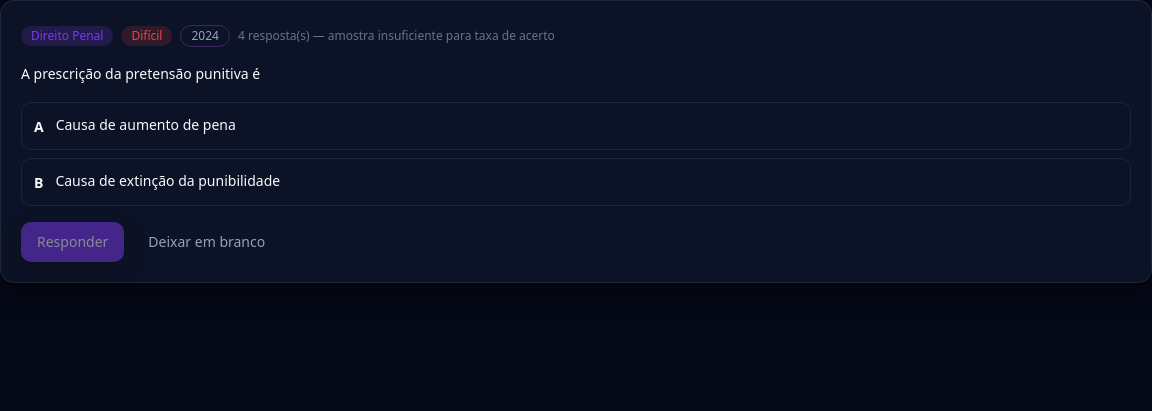
Test: QuestionCard › mostra o comentário da marcada e o da correta após responder
Click the text "Causa de aumento de pena": coordinates (146, 124) 56,115 -> 236,134
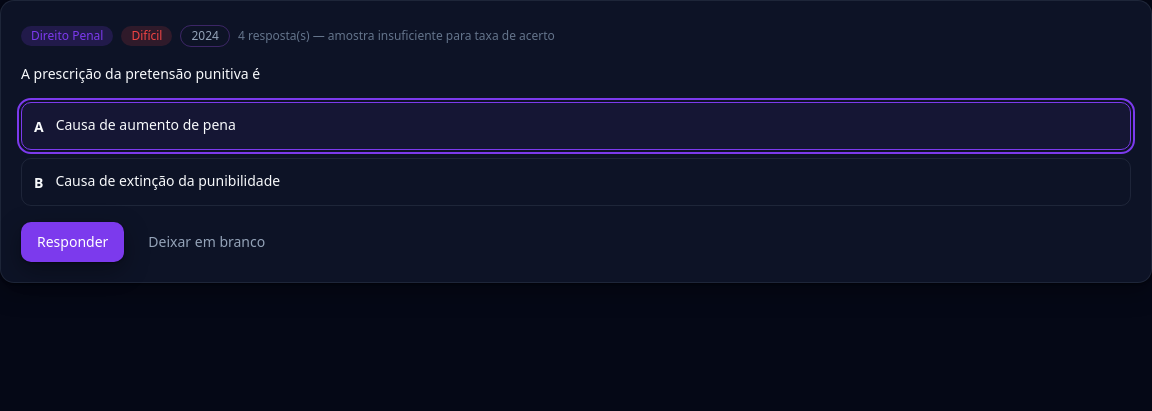
Click the button "Responder": coordinates (73, 242) 21,222 -> 124,262
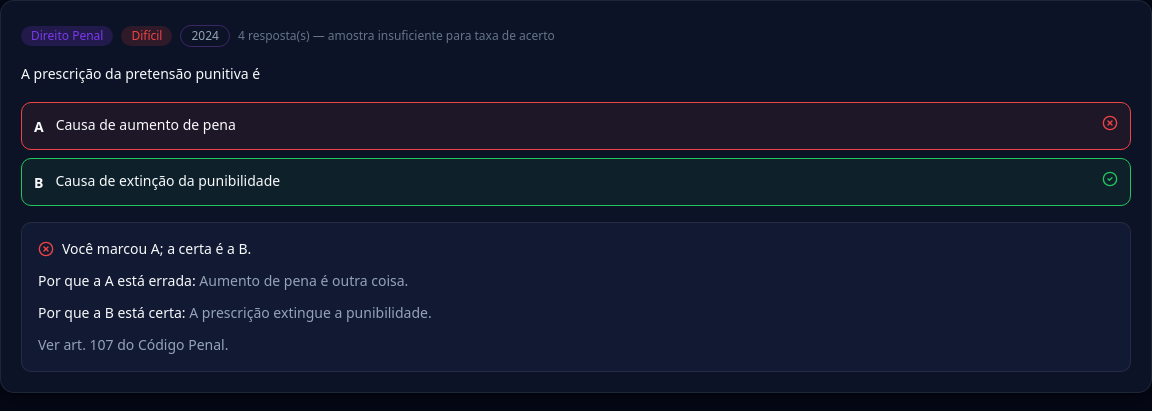
Check: the text "Você marcou A; a certa é a B." is shown, box 38,239 -> 251,258
Check: the text "Por que a A está errada: Aumento de pena é outra coisa." is shown, box 38,271 -> 408,290
Check: the text "A prescrição extingue a punibilidade" is shown, box 189,303 -> 432,322
